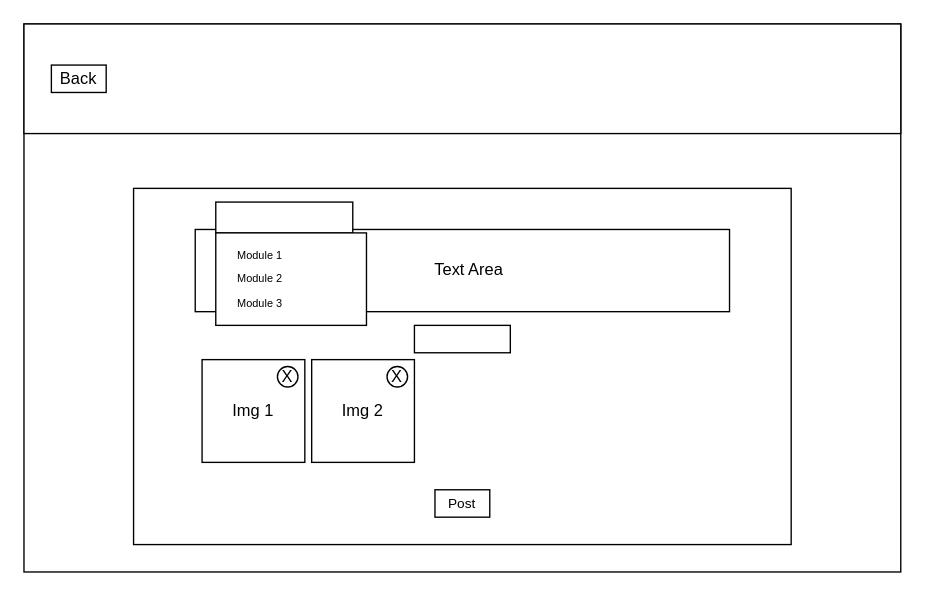
This 925x596 diagram has some shape labels left out. Each missing label, with the box of its shape:
Choose Image: (413, 324, 510, 353)
Module Selection: (214, 201, 353, 233)
